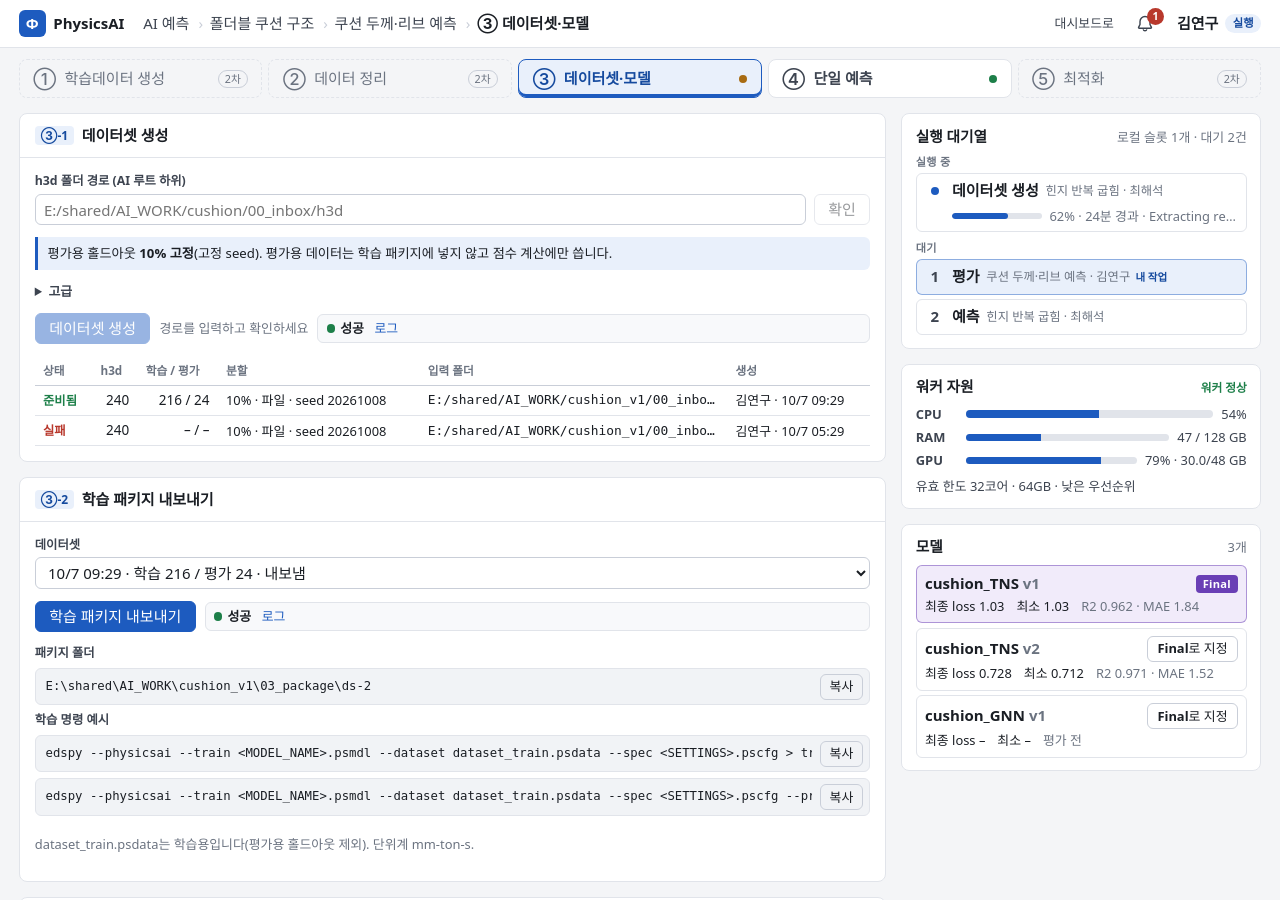
Test case: 알림 (V-FE-4) › 이력 패널에서 모두 읽음
The width and height of the screenshot is (1280, 900).
Later steps or results of the test are not shown.
Check: the text with test id "bell-badge" is shown, box [1147,8,1164,25]
Click the button "1".
click(1145, 24)  # box [1129,7,1162,40]
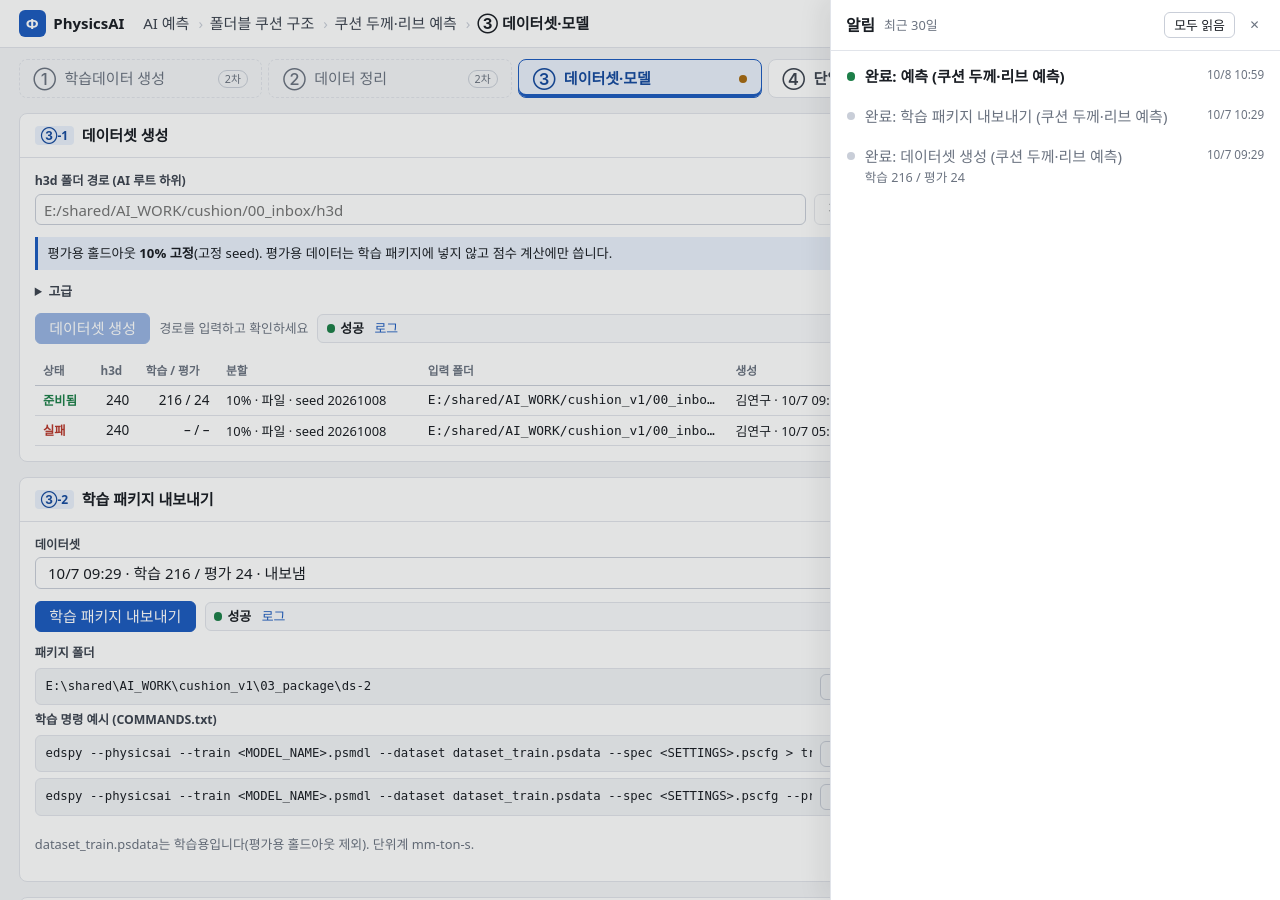
Check: the text "완료: 예측 (쿠션 두께·리브 예측)" is shown, box [865,66,1065,86]
